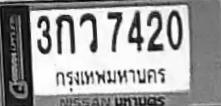0: (166, 9, 182, 49)
2: (146, 10, 162, 50)
3: (36, 15, 51, 53)
4: (126, 10, 142, 51)
7: (106, 11, 122, 52)
A01: (55, 13, 75, 54)
A37: (79, 12, 97, 52)
BKK: (53, 63, 168, 87)
